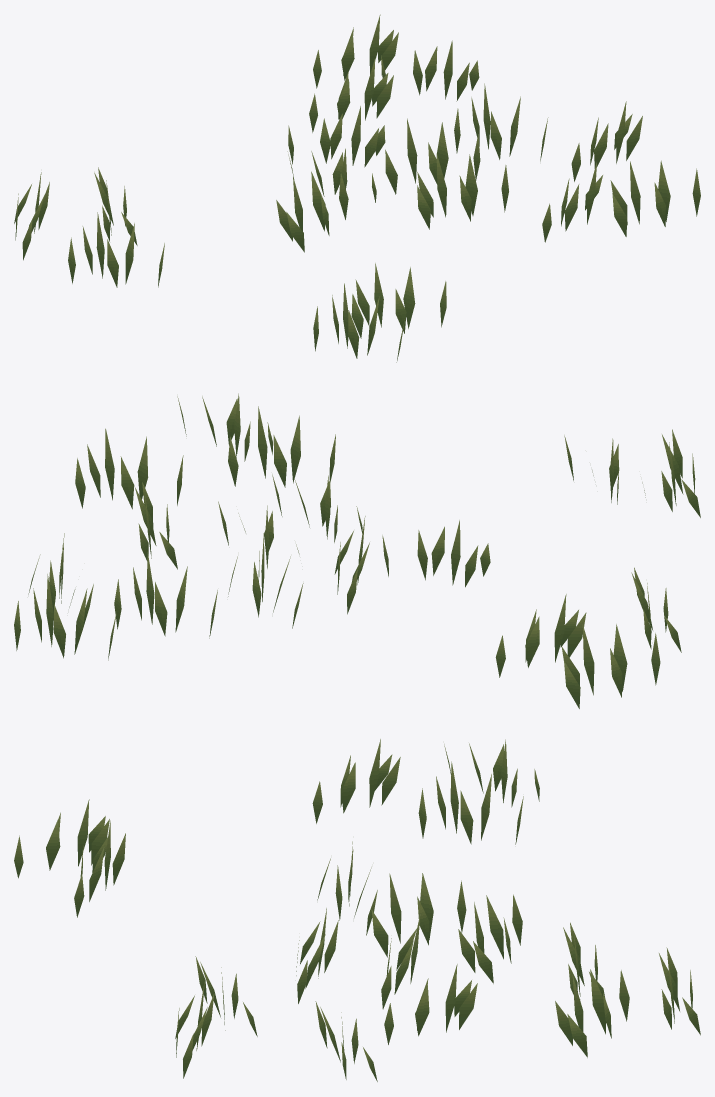
The model's file is plants_un_main_grass_set71_01.gltf.
3 renders of one model, top to bottom at view 1: azimuth 30°, elevation 25°; view 2: azimuth 150°, elevation 25°; view 3: azimuth 270°, elevation 25°, orthographic. The views are drawn at different scales.
Visible parts, largest first — view 1: plants_un_main_grass_set71_01_mesh_shape:plants_un_main_gras; view 2: plants_un_main_grass_set71_01_mesh_shape:plants_un_main_gras; view 3: plants_un_main_grass_set71_01_mesh_shape:plants_un_main_gras.
Part boxes in pixels (bbox=[...]): plants_un_main_grass_set71_01_mesh_shape:plants_un_main_gras: bbox=[14, 14, 700, 362]; plants_un_main_grass_set71_01_mesh_shape:plants_un_main_gras: bbox=[14, 393, 700, 708]; plants_un_main_grass_set71_01_mesh_shape:plants_un_main_gras: bbox=[14, 739, 700, 1081].
Size of what is drawn, in the model's own units: 3.78 by 0.4184 by 3.6.
1 material, 1 textured.
